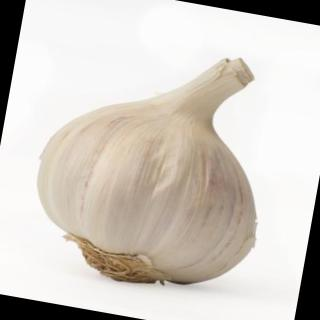Bawang Putih: (24, 80, 279, 305)
